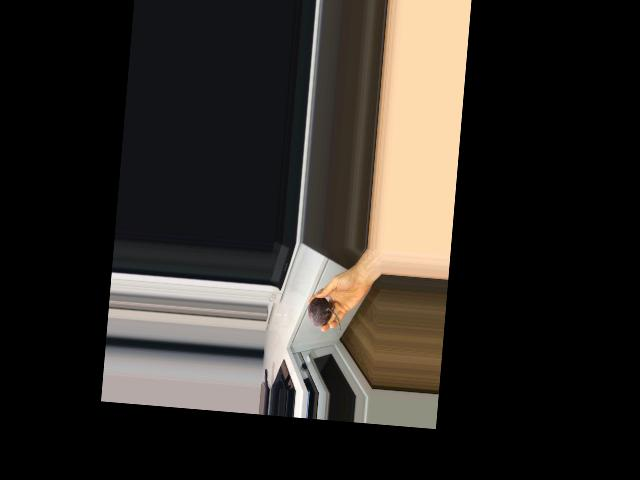beet: (306, 296, 343, 331)
